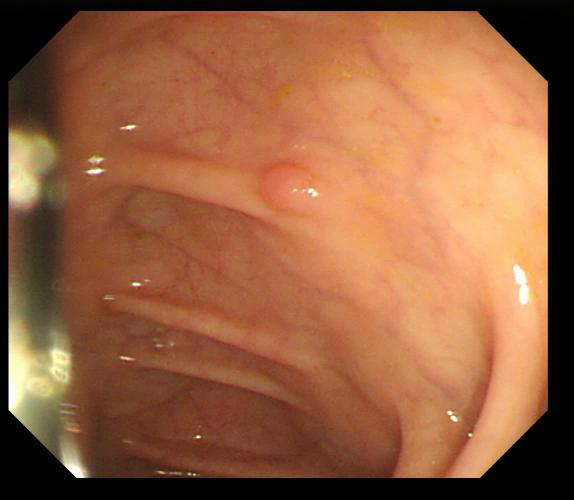polyp: (255, 161, 334, 221)
